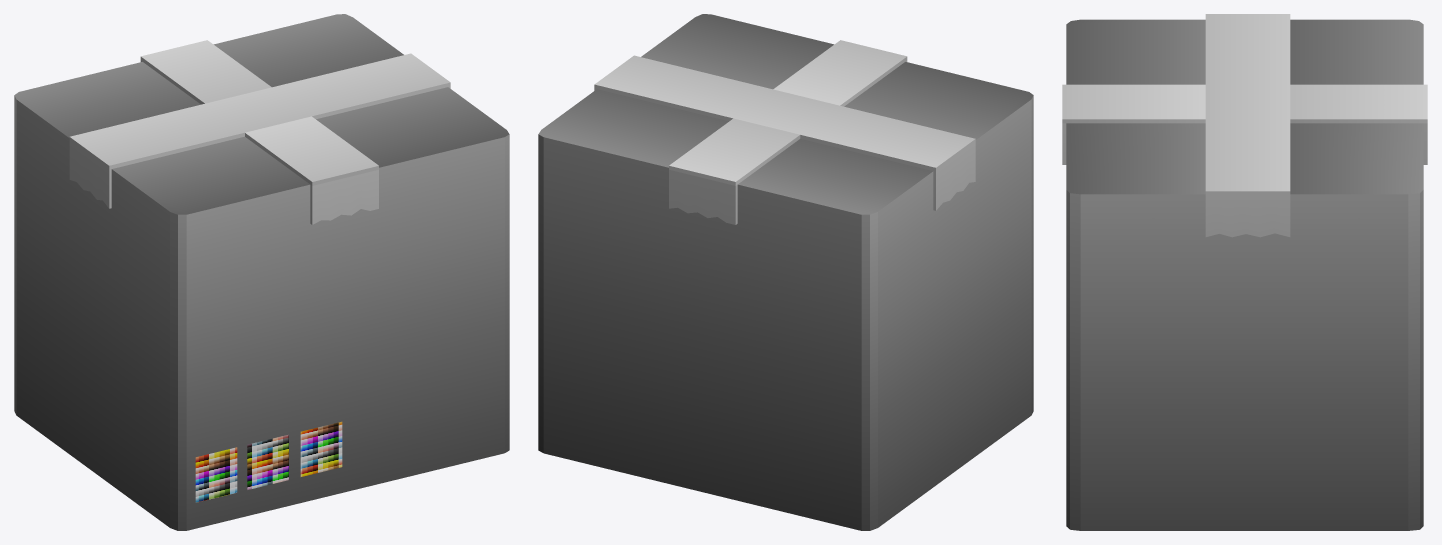
File: Paquete2.fbx
The picture shows the model from 3 angles, left to right: view 1: azimuth 30°, elevation 25°; view 2: azimuth 150°, elevation 25°; view 3: azimuth 270°, elevation 25°; orthographic projection. The views are drawn at different scales.
Parts seen in each view (by area): view 1: Paquete2, celo_paquete2, Etiquetas2; view 2: Paquete2, celo_paquete2; view 3: Paquete2, celo_paquete2.
Boxes of the visible parts, x1=… form: Paquete2: x1=14, y1=14, x2=509, y2=530; celo_paquete2: x1=69, y1=40, x2=450, y2=224; Etiquetas2: x1=195, y1=421, x2=342, y2=502; Paquete2: x1=538, y1=14, x2=1033, y2=530; celo_paquete2: x1=594, y1=40, x2=975, y2=224; Paquete2: x1=1066, y1=19, x2=1423, y2=530; celo_paquete2: x1=1062, y1=14, x2=1427, y2=237.
Size of the model in its own units: 7.04 by 6.31 by 6.13.
